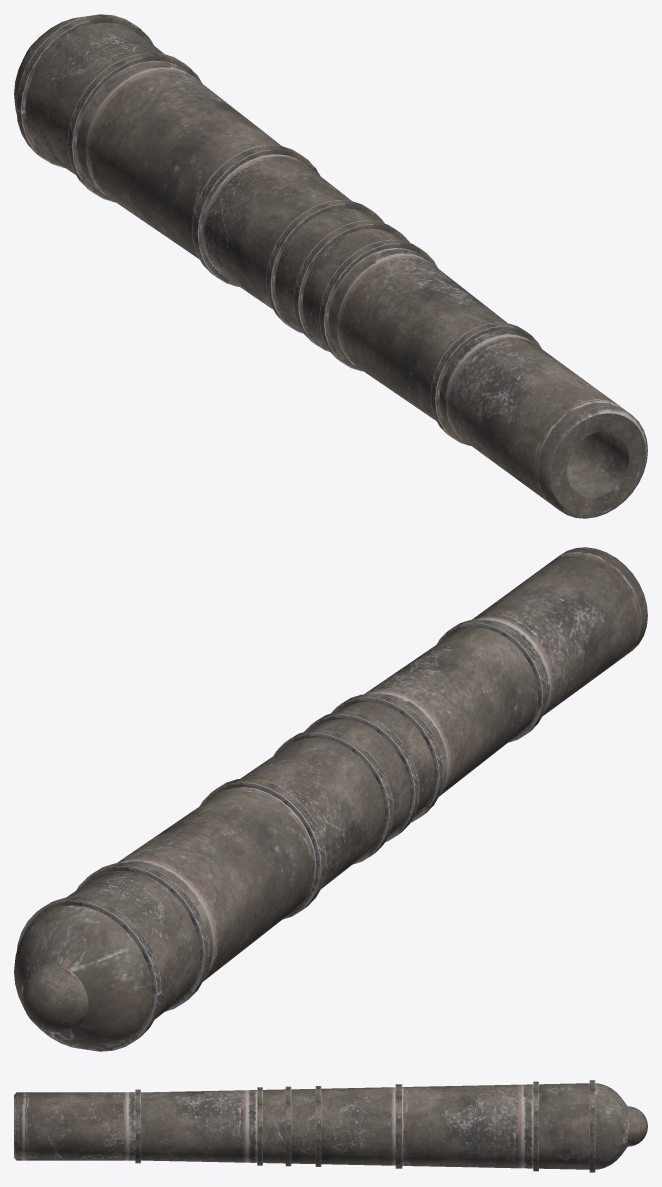
File: SM_Cannon02.FBX
3 renders of one model, top to bottom at view 1: azimuth 30°, elevation 25°; view 2: azimuth 150°, elevation 25°; view 3: azimuth 270°, elevation 25°, orthographic. The views are drawn at different scales.
Parts seen in each view (by area): view 1: SM_Cannon02; view 2: SM_Cannon02; view 3: SM_Cannon02.
Boxes of the visible parts, x1,y1,x2,y2 form: SM_Cannon02: [14, 14, 647, 518]; SM_Cannon02: [14, 547, 647, 1051]; SM_Cannon02: [14, 1080, 647, 1172].
Size of the model in its own units: 40.6 by 279 by 40.6.
